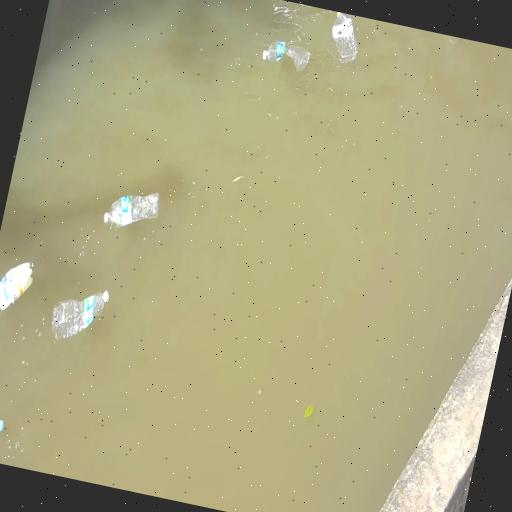plastic: (52, 290, 109, 340), (104, 193, 159, 227), (0, 263, 33, 310), (263, 42, 310, 71), (332, 12, 357, 64), (0, 420, 3, 431)
